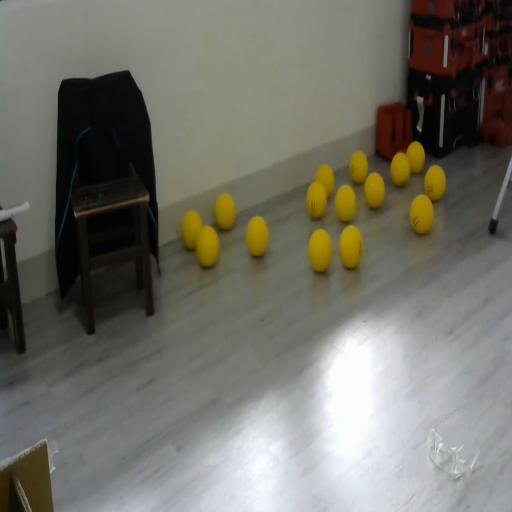FUEL: (308, 227, 332, 273), (245, 213, 270, 257), (339, 225, 364, 269), (196, 226, 220, 268), (410, 194, 434, 235), (214, 192, 236, 231), (334, 184, 356, 222), (364, 171, 386, 209), (424, 164, 446, 201), (182, 210, 202, 250), (390, 152, 411, 186), (315, 164, 335, 199), (406, 141, 426, 174), (349, 150, 368, 184)
